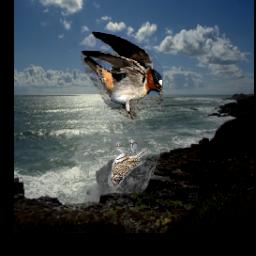Sparrow: (108, 139, 147, 186)
Swallow: (81, 31, 163, 120)
